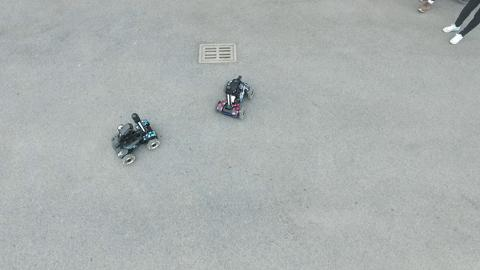chariot: (112, 114, 162, 163), (218, 75, 252, 122)
